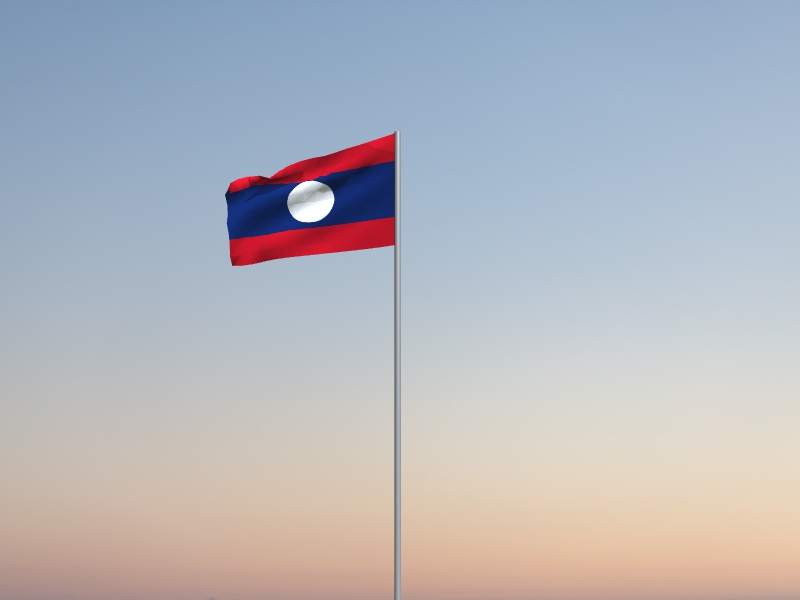la: (224, 134, 395, 268)
